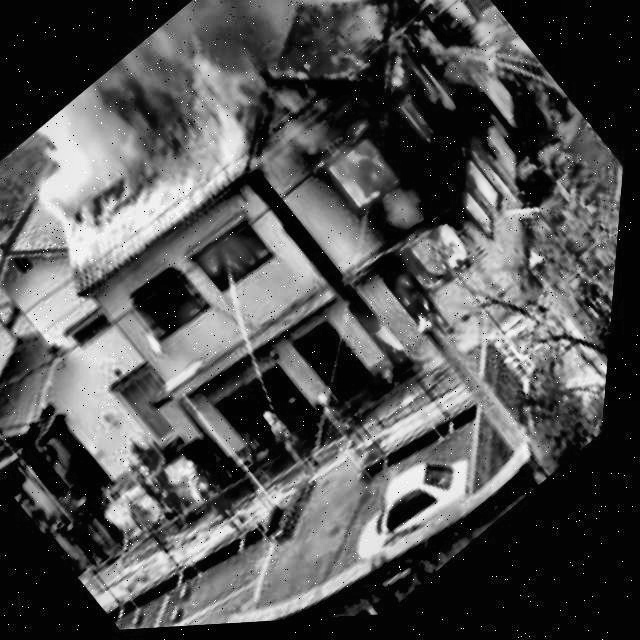Fire: (228, 25, 585, 384), (50, 61, 203, 214), (143, 212, 277, 337)
Smoke: (117, 0, 394, 184)
